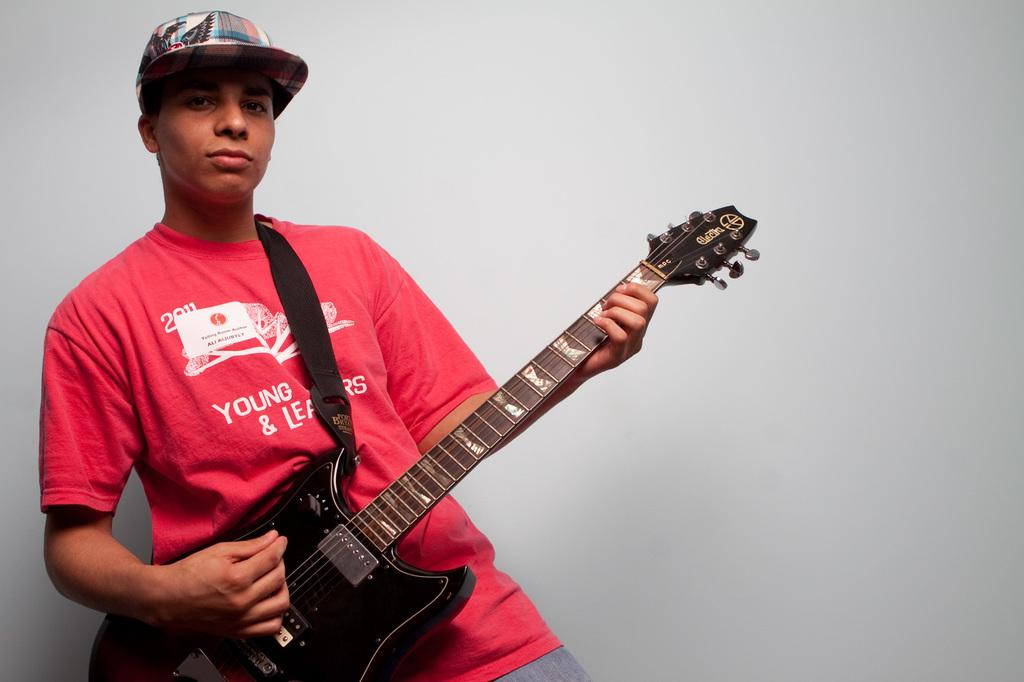Hat: (134, 4, 306, 120)
